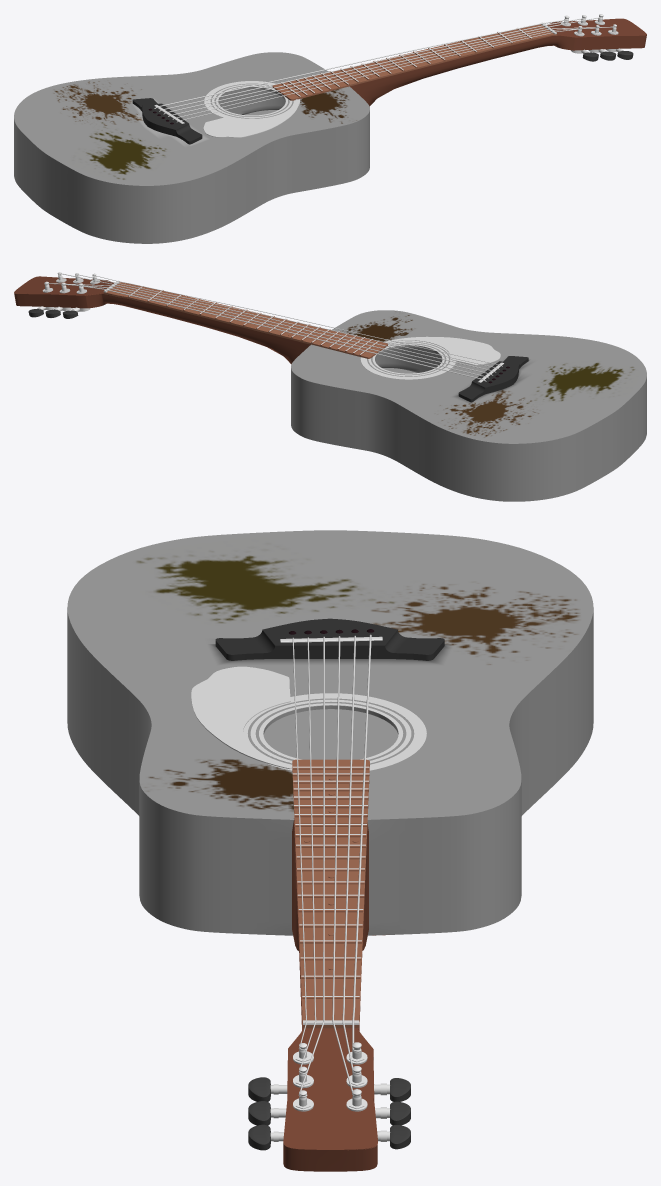
File: acoustic (2).fbx
3 renders of one model, top to bottom at view 1: azimuth 30°, elevation 25°; view 2: azimuth 150°, elevation 25°; view 3: azimuth 270°, elevation 25°, orthographic. The views are drawn at different scales.
Visible parts, largest first — view 1: tuner1_Cube.001, tuner1_Cube.006, neck_Cube.004, Strings2_Vert.003, picguard_Circle.003, bridgeline_Cube.002; view 2: tuner1_Cube.001, tuner1_Cube.006, neck_Cube.004, Strings2_Vert.003, picguard_Circle.003, bridgeline_Cube.002; view 3: tuner1_Cube.001, tuner1_Cube.006, neck_Cube.004, picguard_Circle.003, bridgeline_Cube.002, Strings2_Vert.003.
Boxes of the visible parts, left/top/right/bottom form: tuner1_Cube.001: left=14, top=52, right=369, bottom=243; tuner1_Cube.006: left=350, top=14, right=646, bottom=106; neck_Cube.004: left=272, top=24, right=556, bottom=100; Strings2_Vert.003: left=154, top=17, right=616, bottom=122; picguard_Circle.003: left=203, top=81, right=299, bottom=137; bridgeline_Cube.002: left=132, top=98, right=202, bottom=144; tuner1_Cube.001: left=291, top=310, right=646, bottom=501; tuner1_Cube.006: left=14, top=272, right=310, bottom=364; neck_Cube.004: left=103, top=282, right=387, bottom=358; Strings2_Vert.003: left=45, top=273, right=502, bottom=381; picguard_Circle.003: left=360, top=336, right=500, bottom=379; bridgeline_Cube.002: left=458, top=356, right=528, bottom=402; tuner1_Cube.001: left=67, top=530, right=593, bottom=935; tuner1_Cube.006: left=248, top=820, right=410, bottom=1171; neck_Cube.004: left=292, top=759, right=369, bottom=1028; picguard_Circle.003: left=191, top=666, right=426, bottom=770; bridgeline_Cube.002: left=215, top=618, right=444, bottom=660; Strings2_Vert.003: left=292, top=634, right=371, bottom=1097.
Size of the model in its own units: 1915 by 203 by 734.
15 materials, 1 textured.
